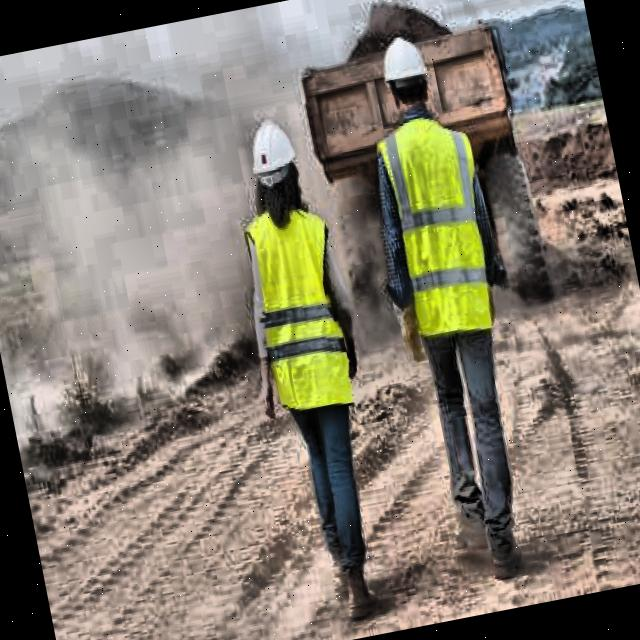helmet: (244, 107, 306, 218), (374, 26, 436, 120)
